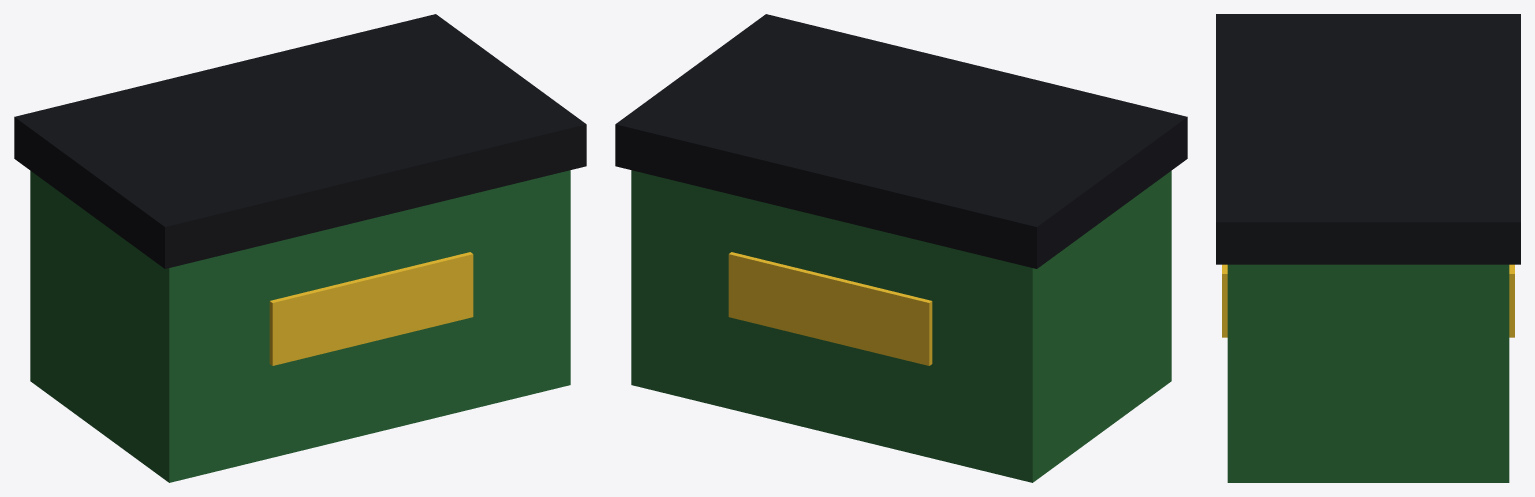
Rendered from prop_pickup_ammo.glb.
The picture shows the model from 3 angles, left to right: view 1: azimuth 30°, elevation 25°; view 2: azimuth 150°, elevation 25°; view 3: azimuth 270°, elevation 25°; orthographic projection.
Parts seen in each view (by area): view 1: prop_pickup_ammo__mesh; view 2: prop_pickup_ammo__mesh; view 3: prop_pickup_ammo__mesh.
Boxes of the visible parts, x1,y1,x2,y2 form: prop_pickup_ammo__mesh: (14,14,586,482); prop_pickup_ammo__mesh: (615,14,1187,482); prop_pickup_ammo__mesh: (1216,14,1520,482).
Bounding box in the file's own units: 0.42 × 0.25 × 0.26.
